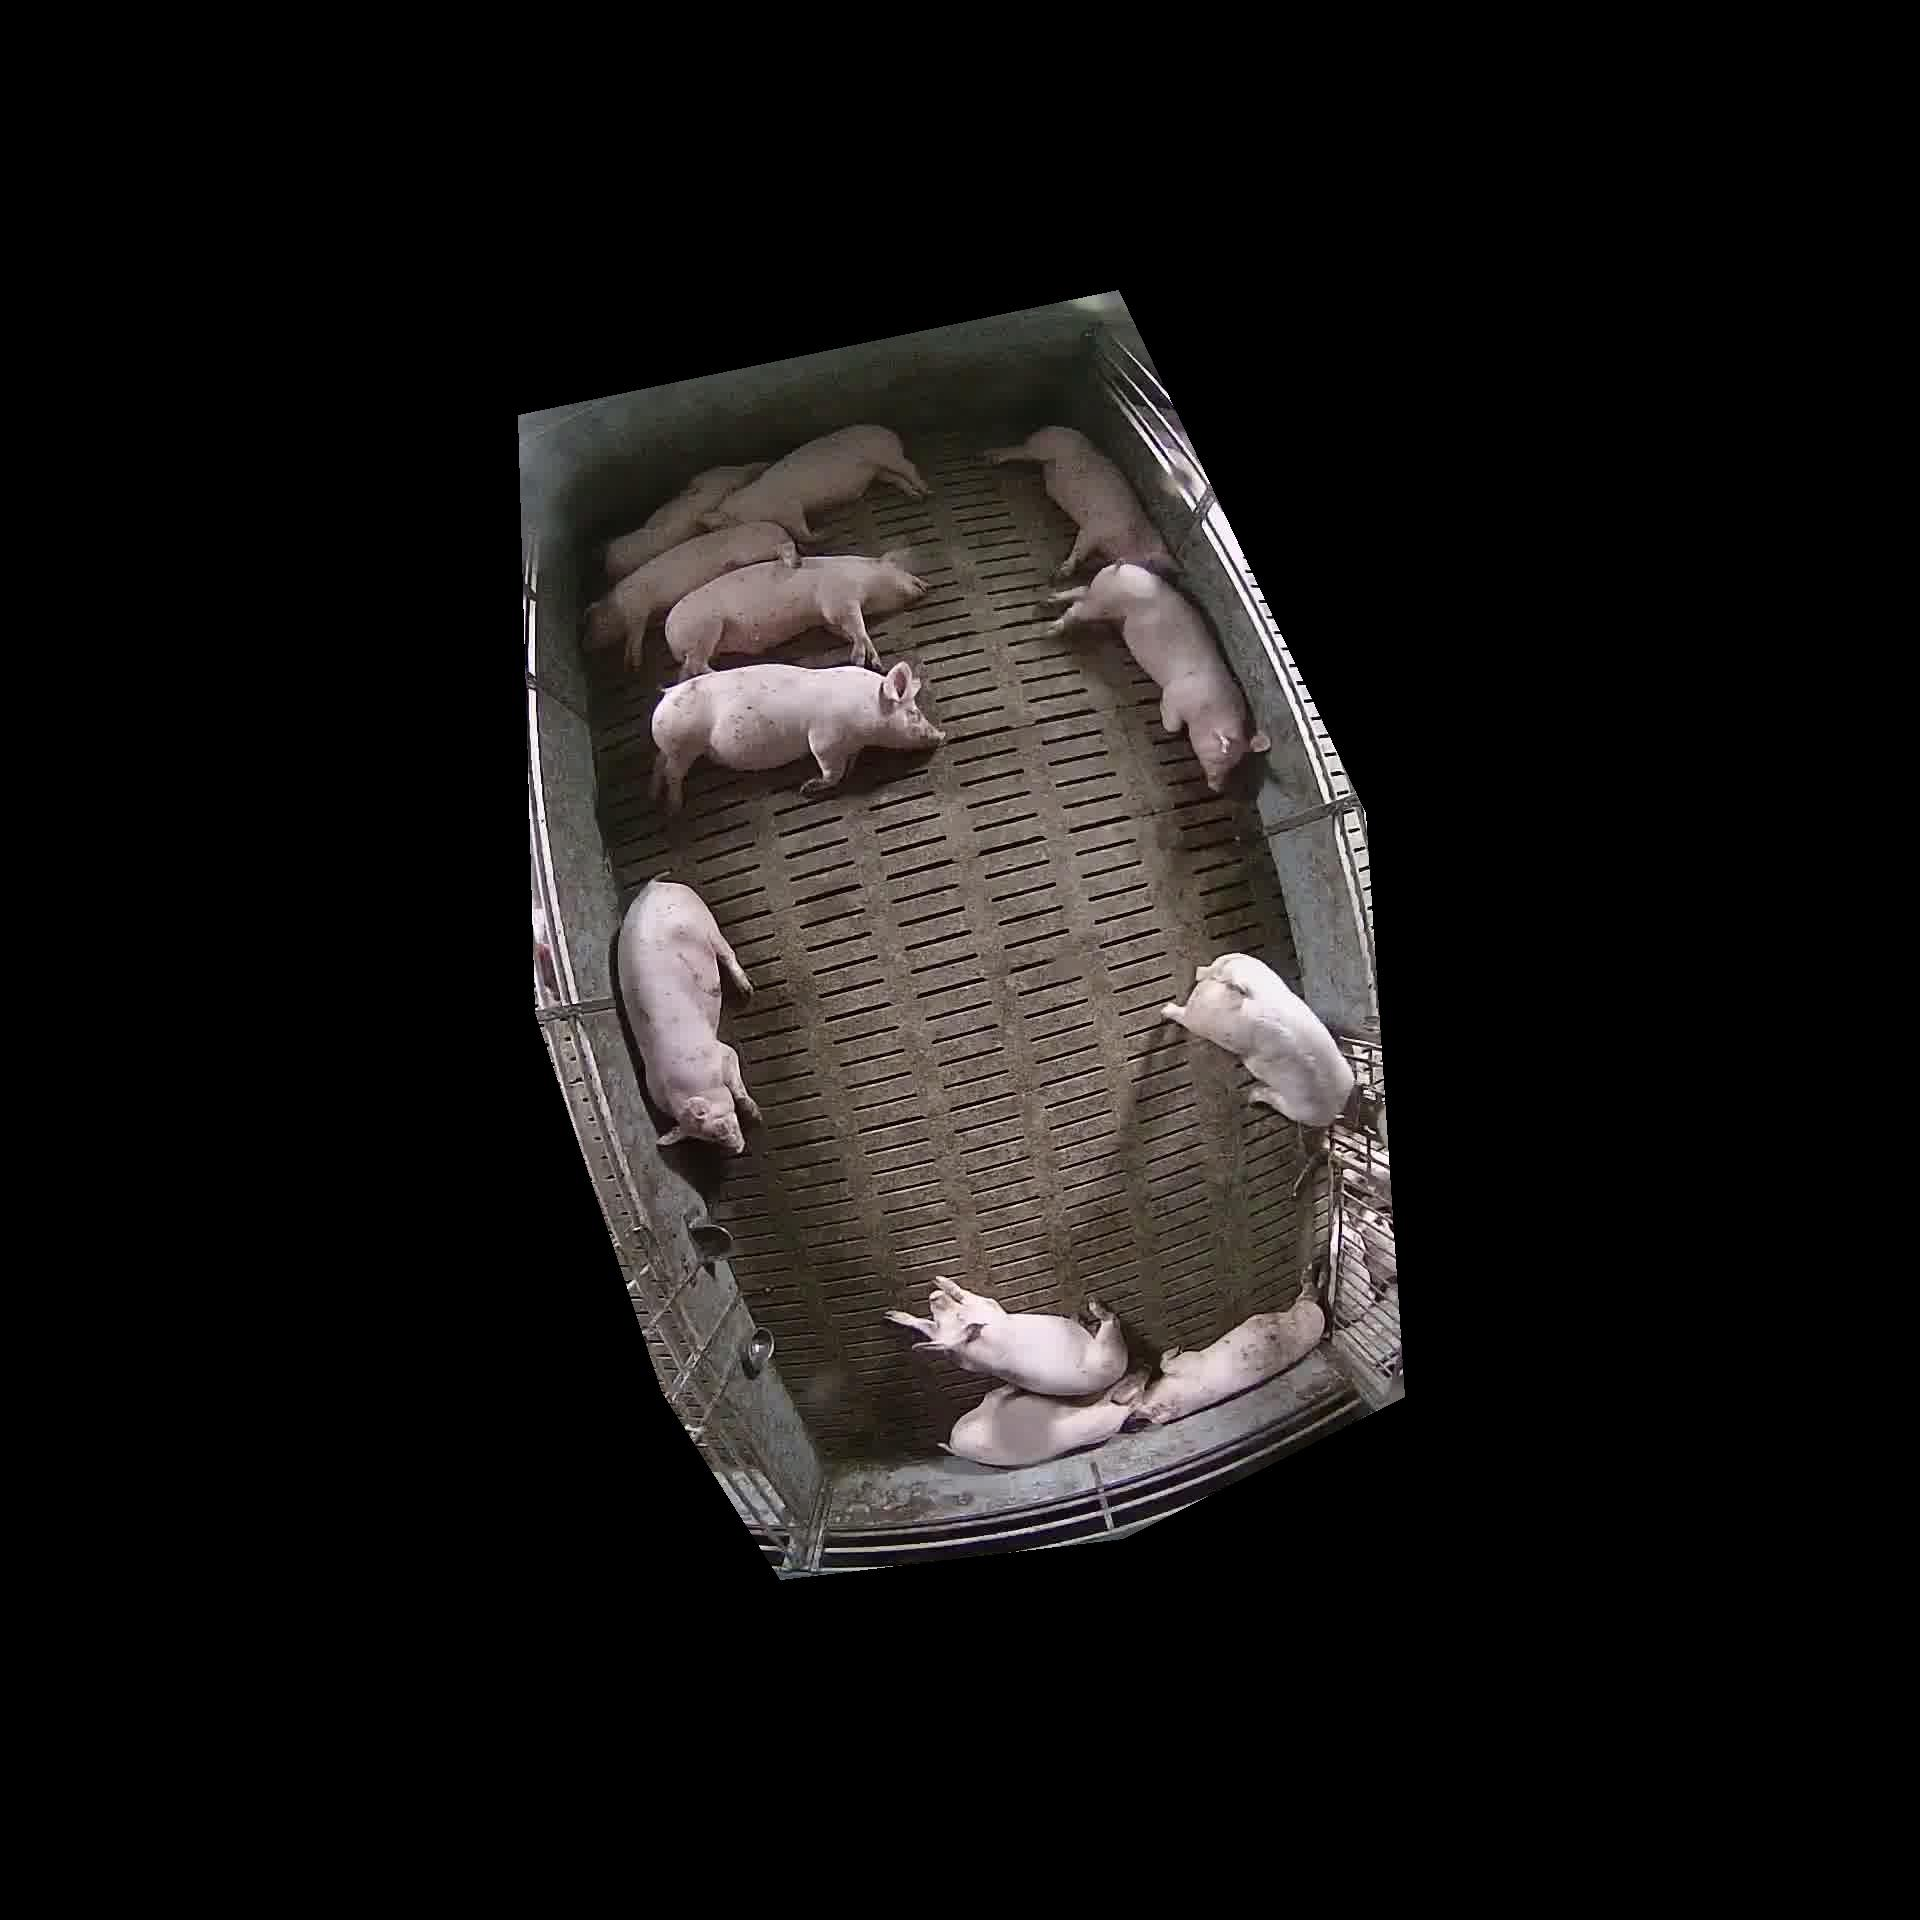pig: (1046, 563, 1264, 788), (652, 663, 944, 811), (617, 879, 760, 1153), (1162, 953, 1356, 1125), (665, 550, 927, 677), (584, 522, 795, 666), (886, 1276, 1127, 1396), (985, 425, 1173, 578), (703, 425, 928, 542), (1136, 1296, 1326, 1422), (605, 462, 765, 580), (948, 1373, 1145, 1466)
